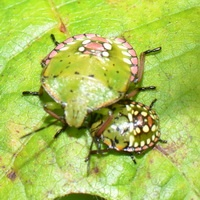insect: (22, 33, 165, 160)
